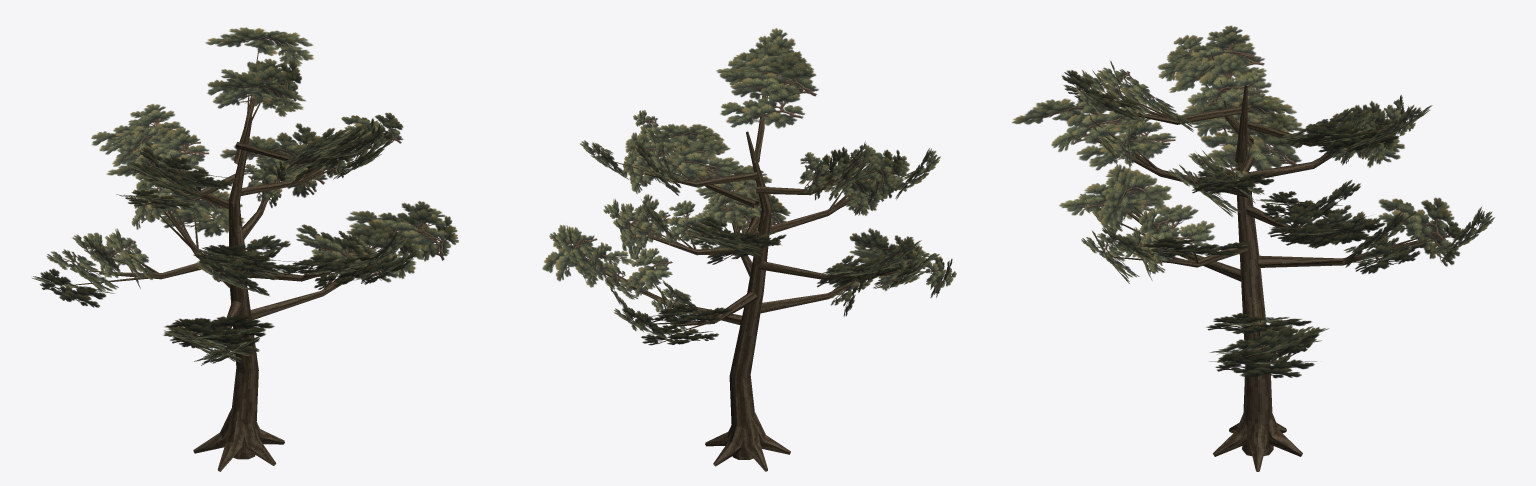
The model's file is chinese_pine_c.glb.
The picture shows the model from 3 angles, left to right: view 1: azimuth 30°, elevation 25°; view 2: azimuth 150°, elevation 25°; view 3: azimuth 270°, elevation 25°; orthographic projection. The views are drawn at different scales.
Parts seen in each view (by area): view 1: chinese_pine_c / painted boughs, chinese_pine_c / crooked wood; view 2: chinese_pine_c / painted boughs, chinese_pine_c / crooked wood; view 3: chinese_pine_c / painted boughs, chinese_pine_c / crooked wood.
Part boxes in pixels (bbox=[...]): chinese_pine_c / painted boughs: bbox=[31, 27, 458, 365]; chinese_pine_c / crooked wood: bbox=[72, 46, 421, 471]; chinese_pine_c / painted boughs: bbox=[542, 28, 956, 345]; chinese_pine_c / crooked wood: bbox=[564, 60, 940, 471]; chinese_pine_c / painted boughs: bbox=[1011, 25, 1494, 378]; chinese_pine_c / crooked wood: bbox=[1079, 52, 1459, 471].
Bounding box in the file's own units: 8.6 × 6.99 × 7.93.
Materials: 2 (2 with a texture image).
